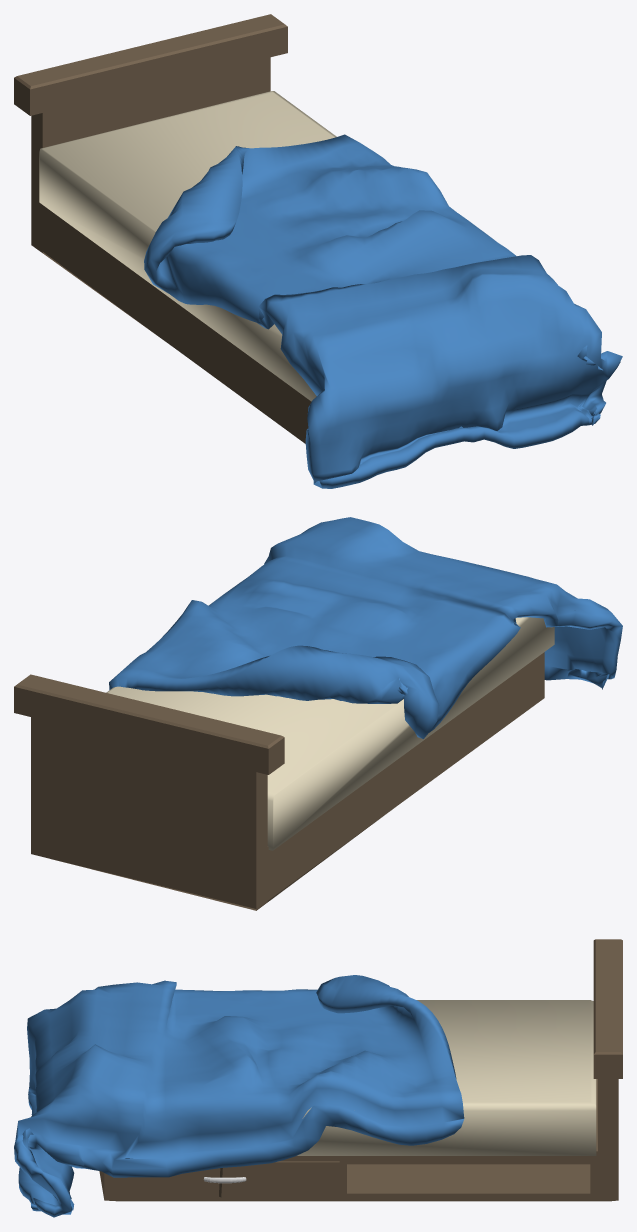
Rendered from Bed.glb.
3 renders of one model, top to bottom at view 1: azimuth 30°, elevation 25°; view 2: azimuth 150°, elevation 25°; view 3: azimuth 270°, elevation 25°, orthographic. The views are drawn at different scales.
Parts seen in each view (by area): view 1: Plane; view 2: Plane; view 3: Plane.
Boxes of the visible parts, x1,y1,x2,y2 form: Plane: (14, 14, 622, 488); Plane: (14, 517, 622, 910); Plane: (14, 939, 622, 1217).
Size of the model in its own units: 1.2 by 0.6534 by 2.21.
